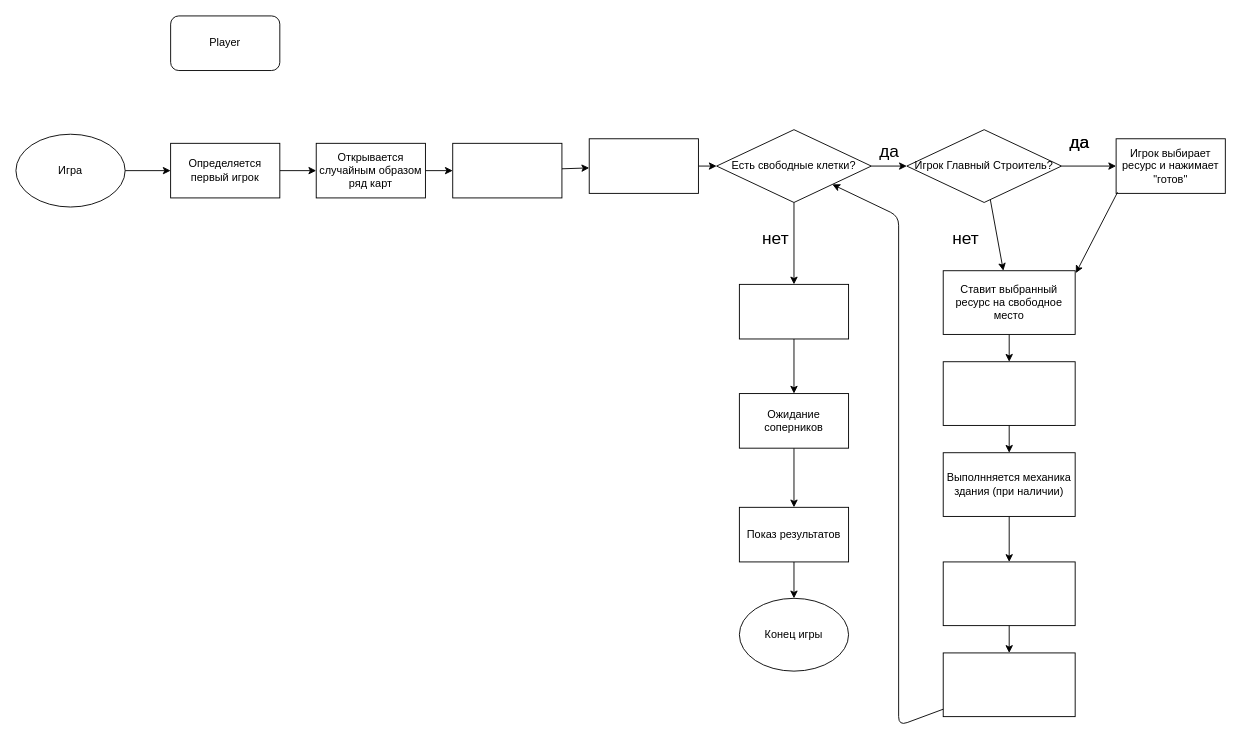
This 1241x749 diagram has some shape labels left out. Each missing label, with the box of its shape:
Каждому игроку предагается на выбор одна из двух карт монумента: (452, 142, 562, 198)
Когда все готовы, Главным строителем становится следующий игрок: (942, 652, 1075, 717)
Нажимает "Готов": (942, 561, 1075, 626)
Начало цикла игры: (588, 138, 698, 193)
По желанию строит из ресурсов здание: (942, 361, 1075, 425)
Подсчет очков: (738, 283, 849, 339)
